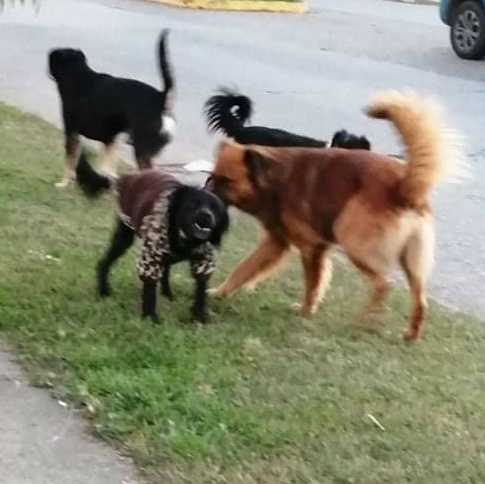dog: (207, 141, 454, 347), (72, 152, 230, 338), (36, 27, 185, 194)
